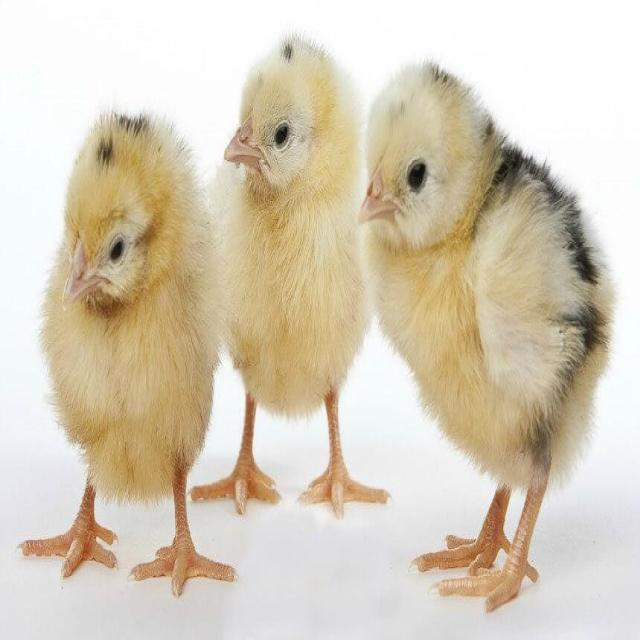poussin: (356, 58, 616, 603), (33, 110, 234, 594), (207, 33, 389, 520)
